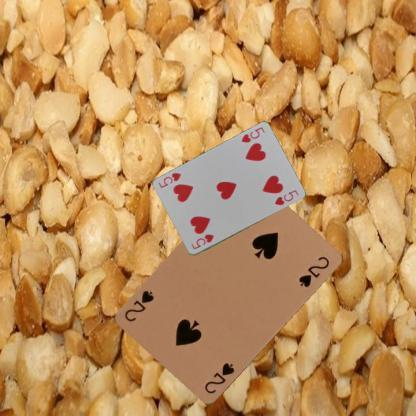2s: (201, 360, 237, 396)
5h: (238, 124, 266, 145), (188, 232, 215, 250)
